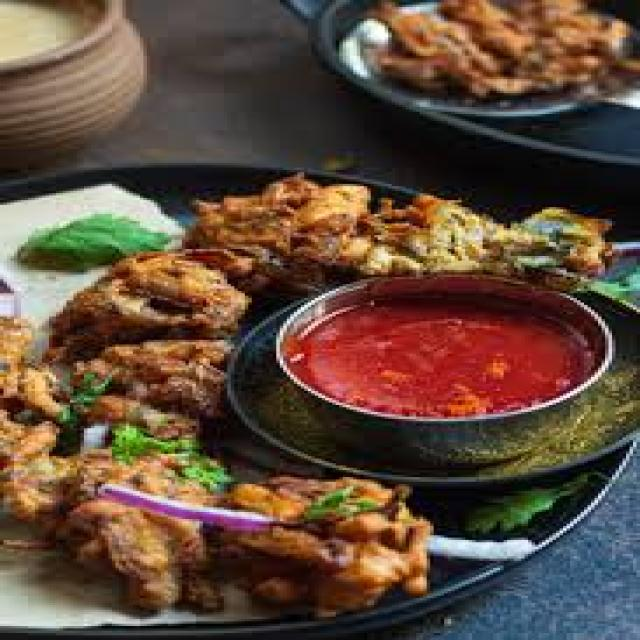BAJI: (19, 436, 203, 608), (235, 486, 412, 627), (182, 177, 353, 290), (73, 257, 235, 356), (340, 188, 490, 268), (472, 208, 602, 288), (95, 341, 228, 419)
